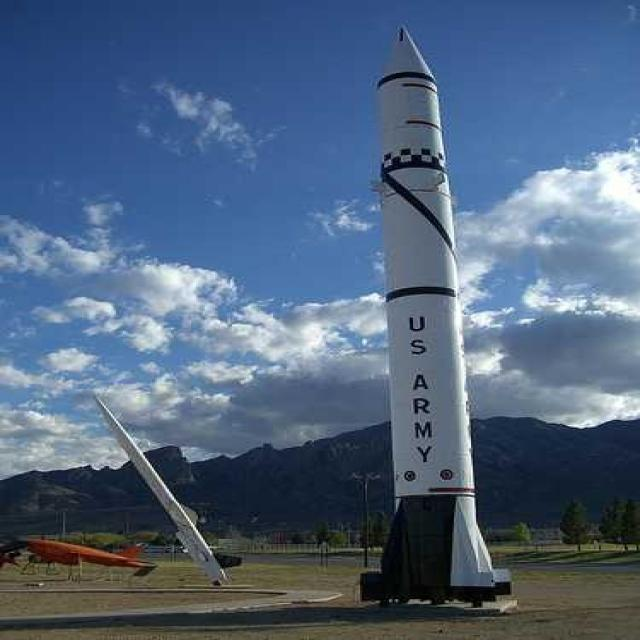missile: (358, 22, 520, 611), (91, 391, 241, 588)
